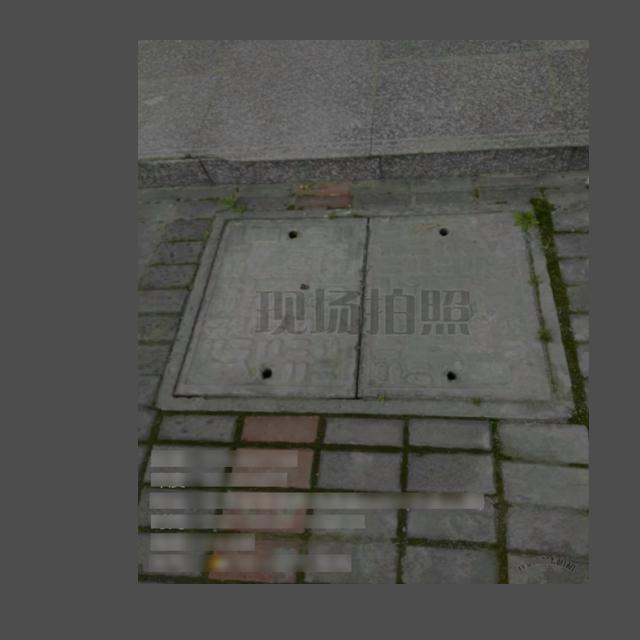good: (158, 208, 559, 408)
